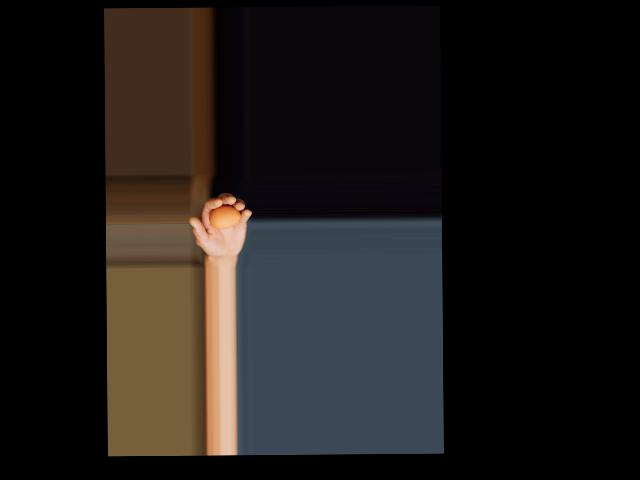egg: (209, 206, 241, 229)
